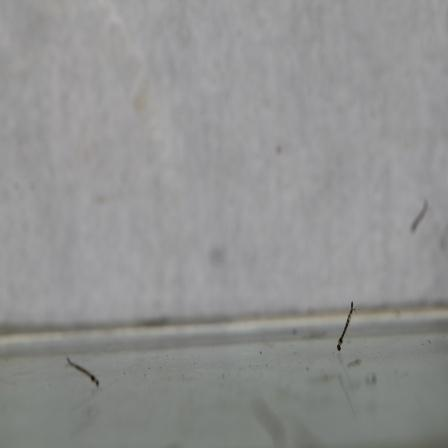Jentik-Nyamuk: (333, 298, 359, 353), (63, 353, 103, 388)
